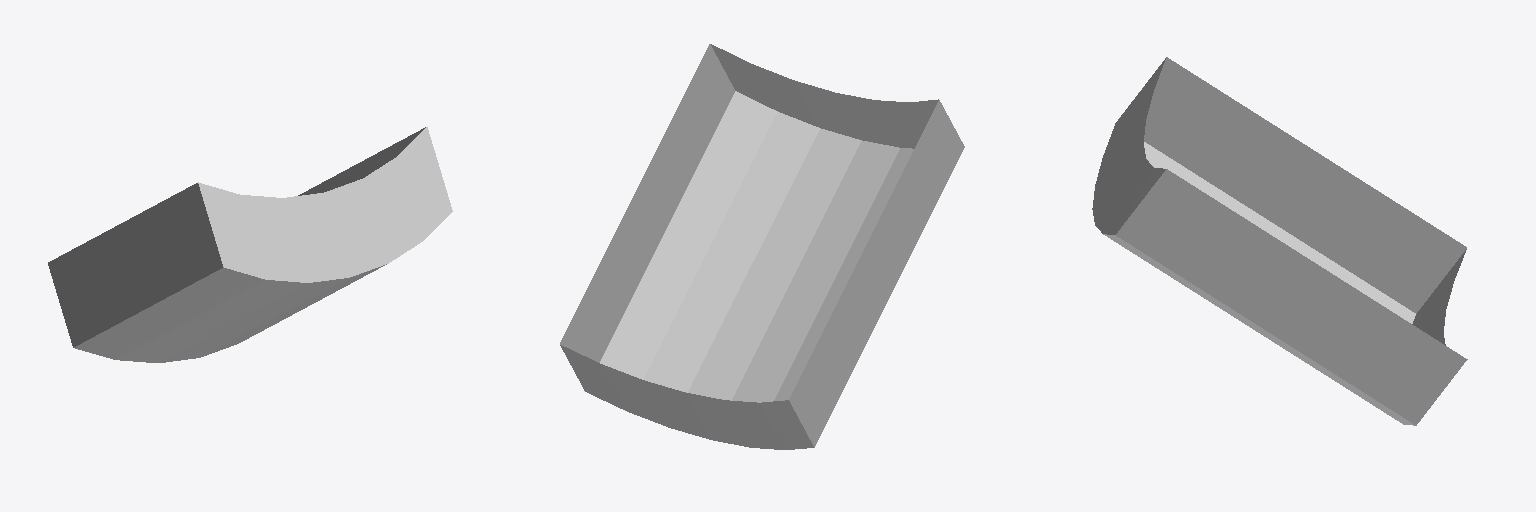
The model's file is EngineBody1.obj.
3 views of the same model, side by side, from view 1: azimuth 30°, elevation 25°; view 2: azimuth 150°, elevation 25°; view 3: azimuth 270°, elevation 25° (orthographic).
Visible parts, largest first — view 1: VaccumCleanerBody5(ButtonRED)_Cylinder.013; view 2: VaccumCleanerBody5(ButtonRED)_Cylinder.013; view 3: VaccumCleanerBody5(ButtonRED)_Cylinder.013.
Part boxes in pixels (bbox=[...]): VaccumCleanerBody5(ButtonRED)_Cylinder.013: bbox=[48, 127, 452, 362]; VaccumCleanerBody5(ButtonRED)_Cylinder.013: bbox=[560, 44, 964, 449]; VaccumCleanerBody5(ButtonRED)_Cylinder.013: bbox=[1092, 57, 1467, 425].
Bounding box in the file's own units: 0.0444 × 0.053 × 0.063.